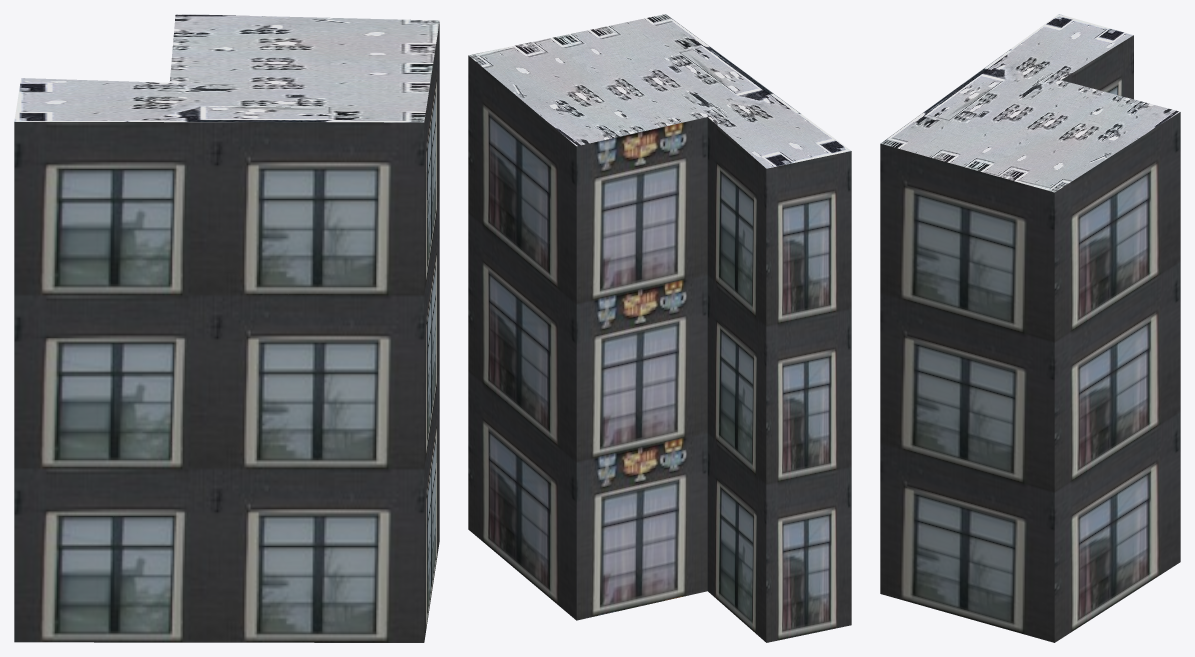
Rendered from ResTex__5251.fbx.
3 renders of one model, left to right at view 1: azimuth 30°, elevation 25°; view 2: azimuth 150°, elevation 25°; view 3: azimuth 270°, elevation 25°, orthographic. The views are drawn at different scales.
Parts seen in each view (by area): view 1: CityEngineMaterial_22_m, CityEngineMaterial_m; view 2: CityEngineMaterial_22_m, CityEngineMaterial_m; view 3: CityEngineMaterial_22_m, CityEngineMaterial_m.
Part boxes in pixels (bbox=[...]): CityEngineMaterial_22_m: bbox=[14, 22, 439, 642]; CityEngineMaterial_m: bbox=[14, 14, 439, 122]; CityEngineMaterial_22_m: bbox=[468, 55, 851, 642]; CityEngineMaterial_m: bbox=[469, 14, 850, 168]; CityEngineMaterial_22_m: bbox=[880, 35, 1180, 642]; CityEngineMaterial_m: bbox=[881, 14, 1180, 192].
Size of the model in its own units: 7.65 by 9 by 5.44.
2 materials, 2 textured.
